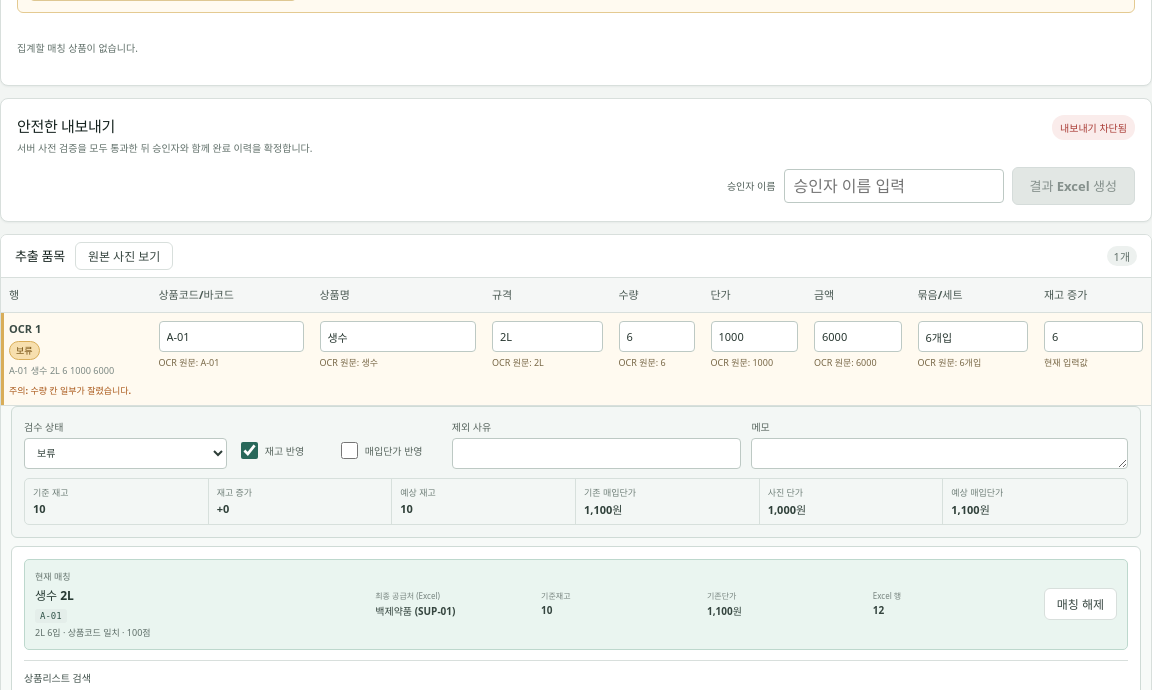
Test case: 사진과 품목 검수 › OCR 원문과 현재 값을 구분하고 blur 시 수정 필드만 자동 저장한다
(page scrolled)
Expected: the text "OCR 원문: 생수" is shown, [320,356,378,369]
Expected: the list item "수량 칸 일부가 잘렸습니다." is shown, [30,384,131,396]
Replace the text in the field named "1번 행 상품명" with "제주 생수": (398, 337) [320,321,476,352]
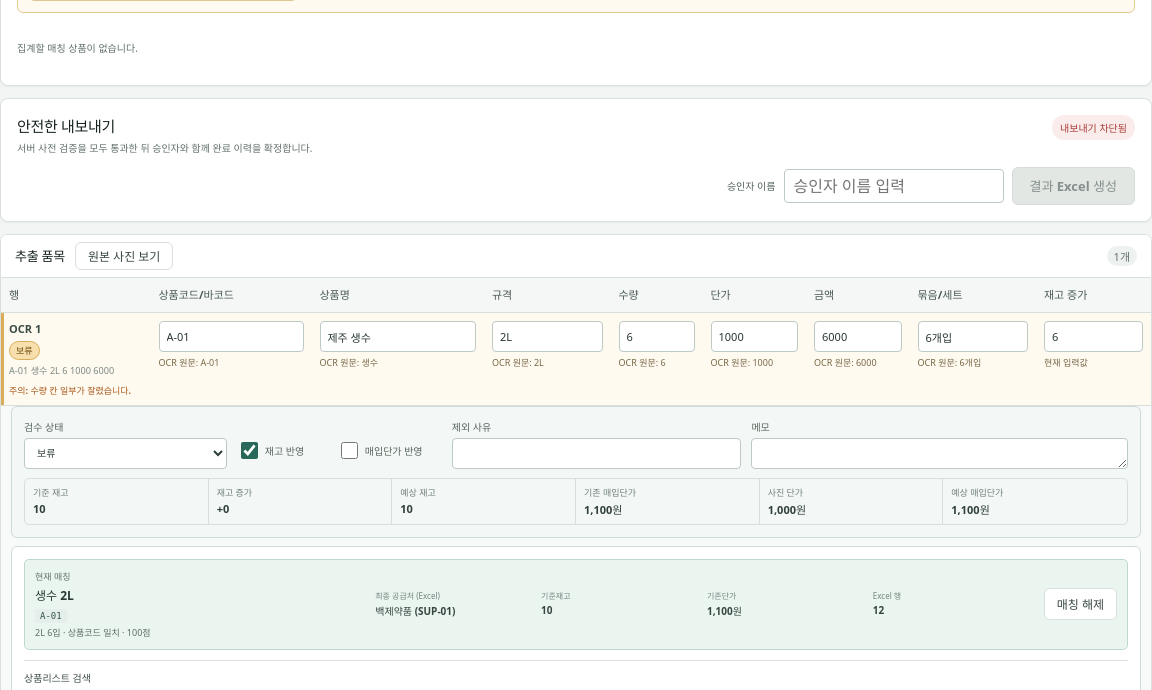
Leave the field named "1번 행 상품명", box [320,321,476,352]
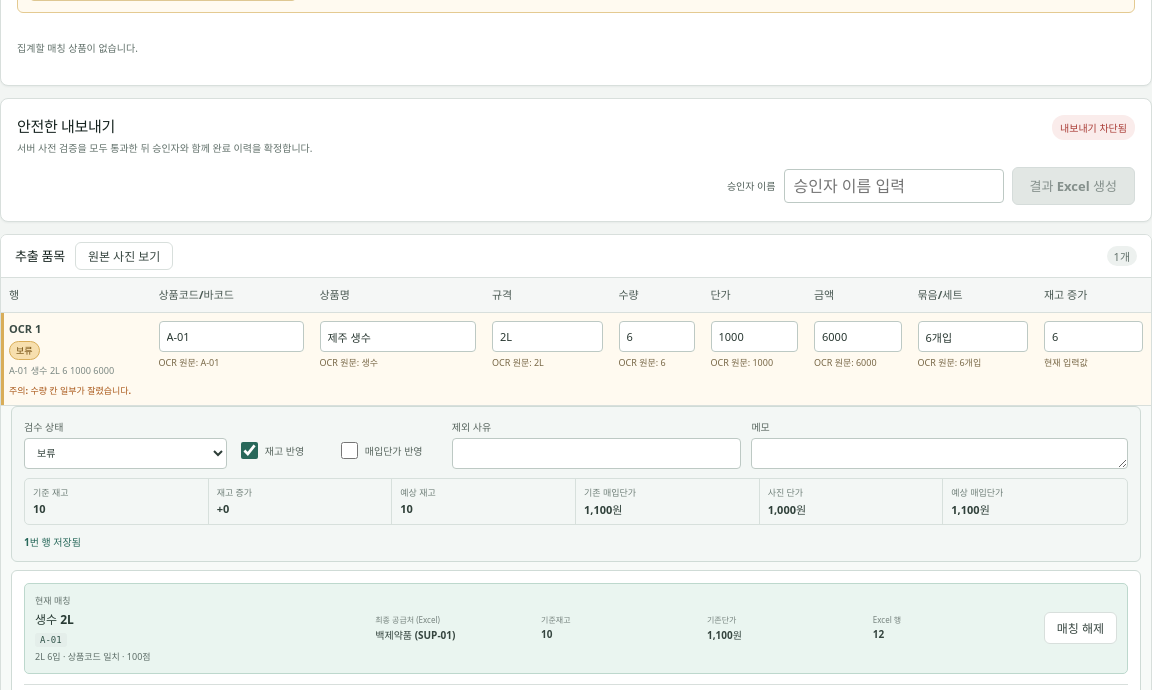
Expected: the text "1번 행 저장됨" is shown, [24,535,81,549]
